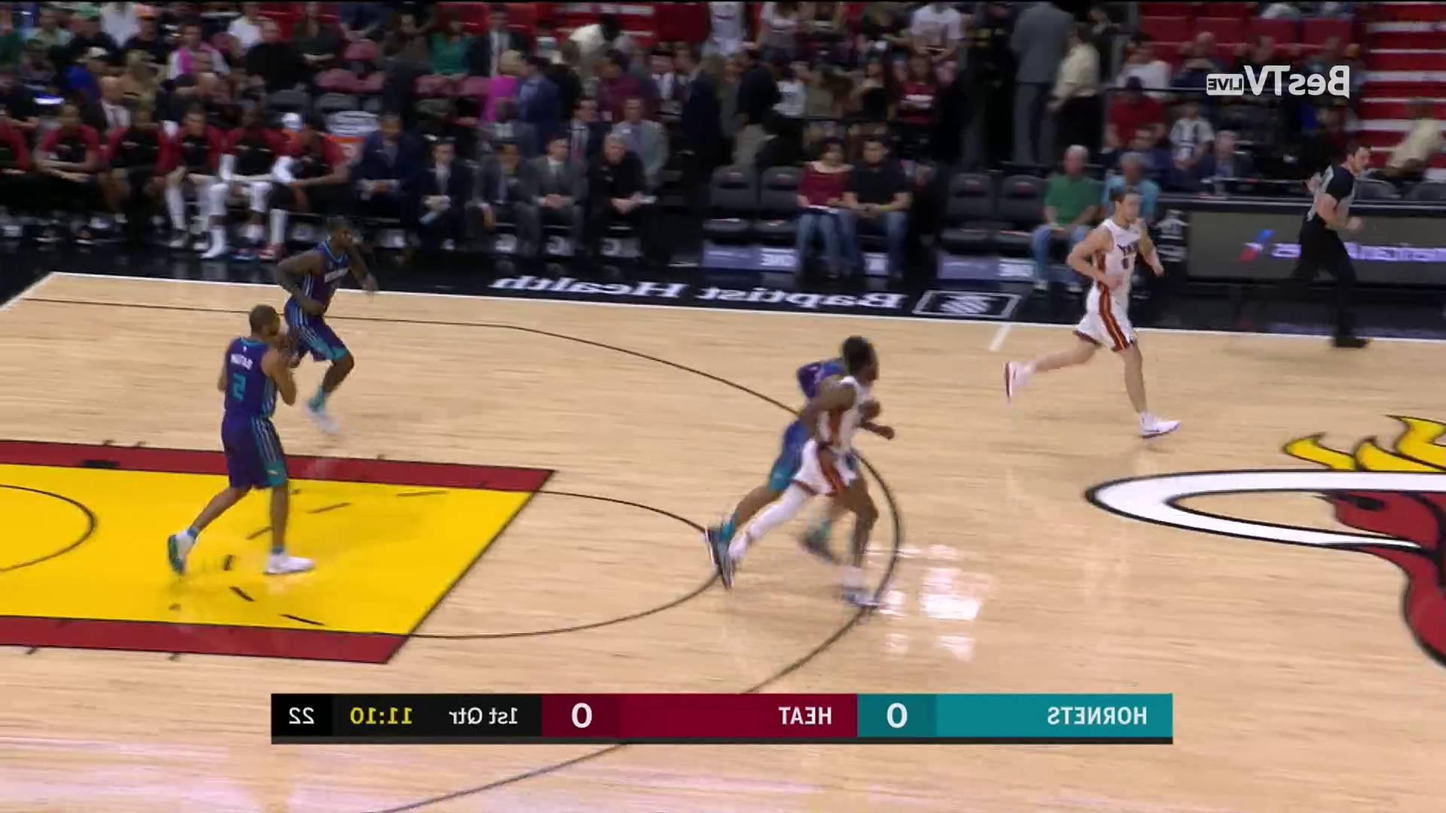basketball: (277, 325, 307, 355)
